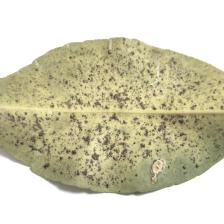canker: (58, 71, 166, 157)
